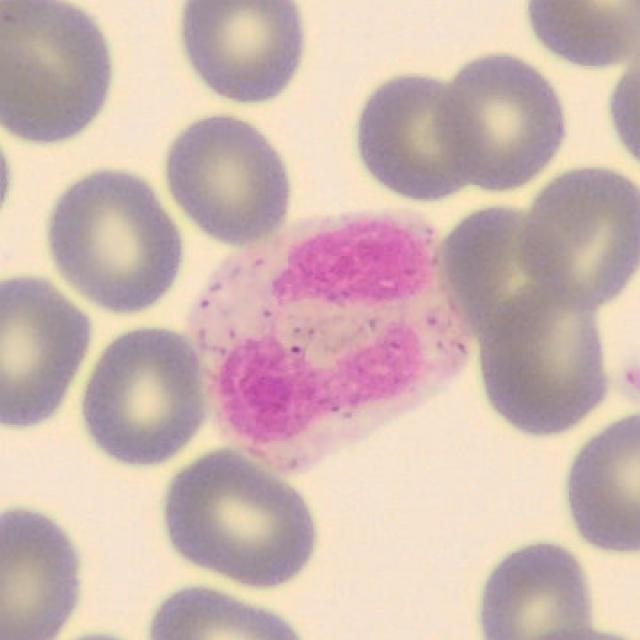Neutrofilo segmentado: (185, 208, 475, 476)
